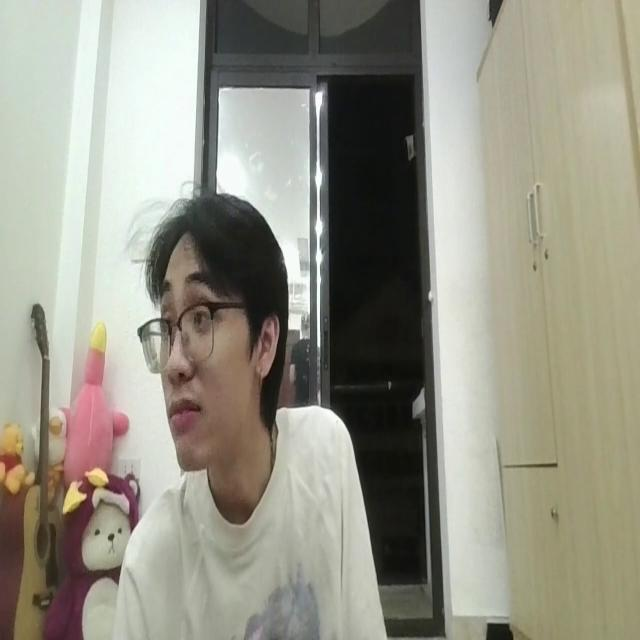student: (119, 188, 388, 640)
